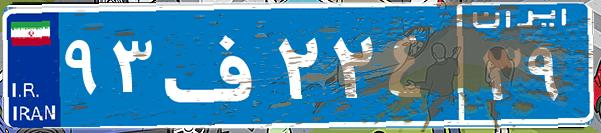2: (273, 28, 330, 110), (330, 28, 385, 110)
3: (475, 38, 525, 113), (110, 28, 158, 105)
4: (385, 28, 445, 110)
9: (57, 26, 110, 107), (525, 38, 570, 115)
ف: (158, 15, 273, 115)
